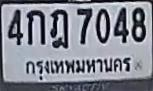0: (95, 8, 109, 42)
4: (7, 7, 22, 44), (113, 6, 128, 42)
7: (76, 7, 91, 44)
8: (131, 6, 145, 41)
A01: (26, 9, 44, 44)
A14: (49, 8, 68, 48)
BKK: (24, 57, 133, 81)
